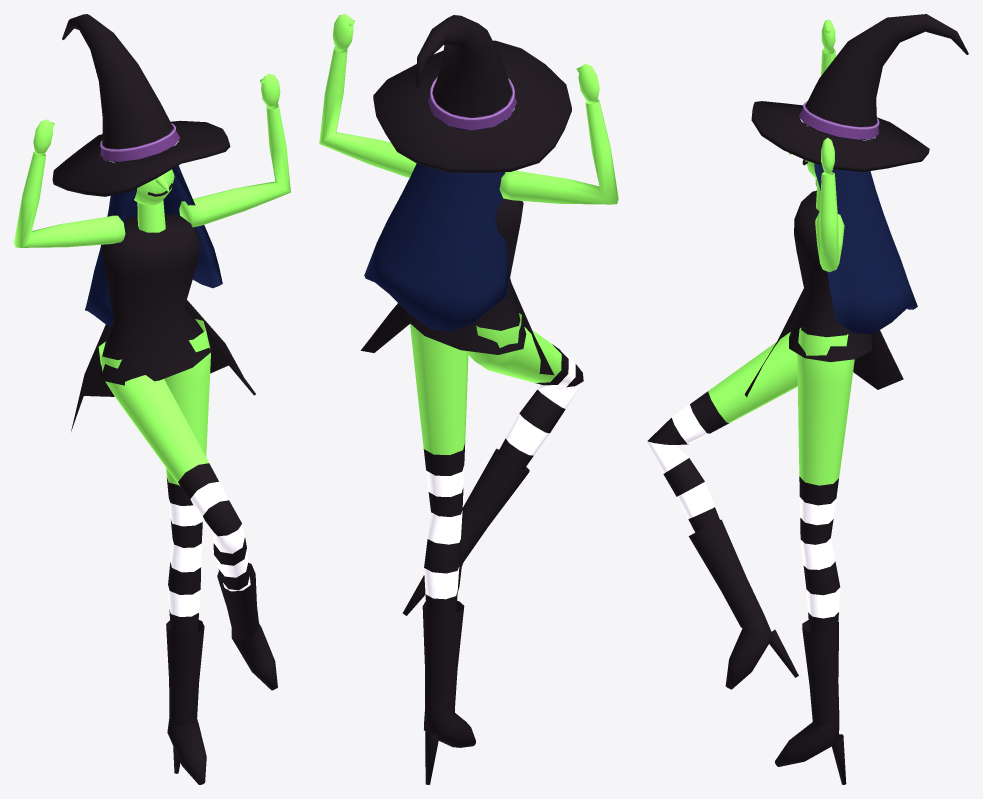
The model's file is witch_happy_solo_b.glb.
3 views of the same model, side by side, from view 1: azimuth 30°, elevation 25°; view 2: azimuth 150°, elevation 25°; view 3: azimuth 270°, elevation 25° (orthographic). The views are drawn at different scales.
Parts seen in each view (by area): view 1: HWG_WitchHappy_solo_b; view 2: HWG_WitchHappy_solo_b; view 3: HWG_WitchHappy_solo_b.
Boxes of the visible parts, bbox=[...] form: HWG_WitchHappy_solo_b: bbox=[14, 14, 290, 784]; HWG_WitchHappy_solo_b: bbox=[319, 14, 618, 784]; HWG_WitchHappy_solo_b: bbox=[647, 14, 968, 784].
Bounding box in the file's own units: 0.5231 × 1.35 × 0.53.
